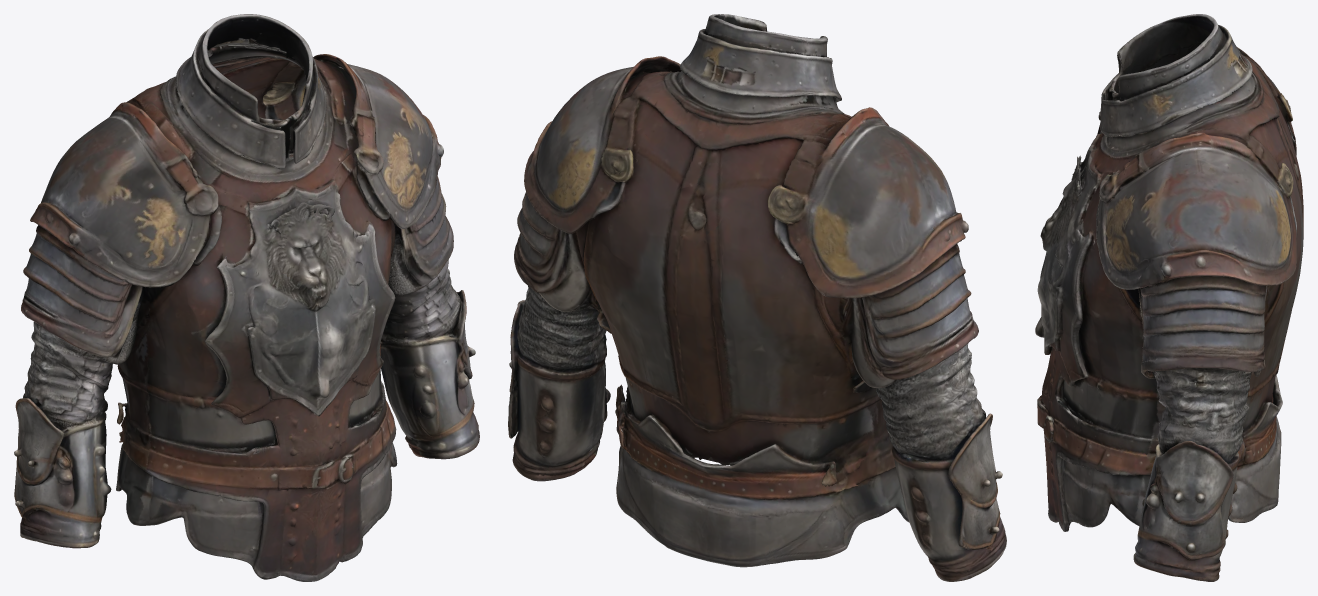
File: 狮子铠甲-李乐天 王毓杰 薛伟廷.glb
3 views of the same model, side by side, from view 1: azimuth 30°, elevation 25°; view 2: azimuth 150°, elevation 25°; view 3: azimuth 270°, elevation 25° (orthographic). The views are drawn at different scales.
Bounding box in the file's own units: 1.88 × 1.99 × 0.9853.
1 material, 1 textured.
